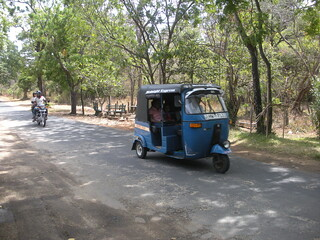motorbike: (31, 99, 50, 126)
threewheel: (131, 82, 232, 174)
